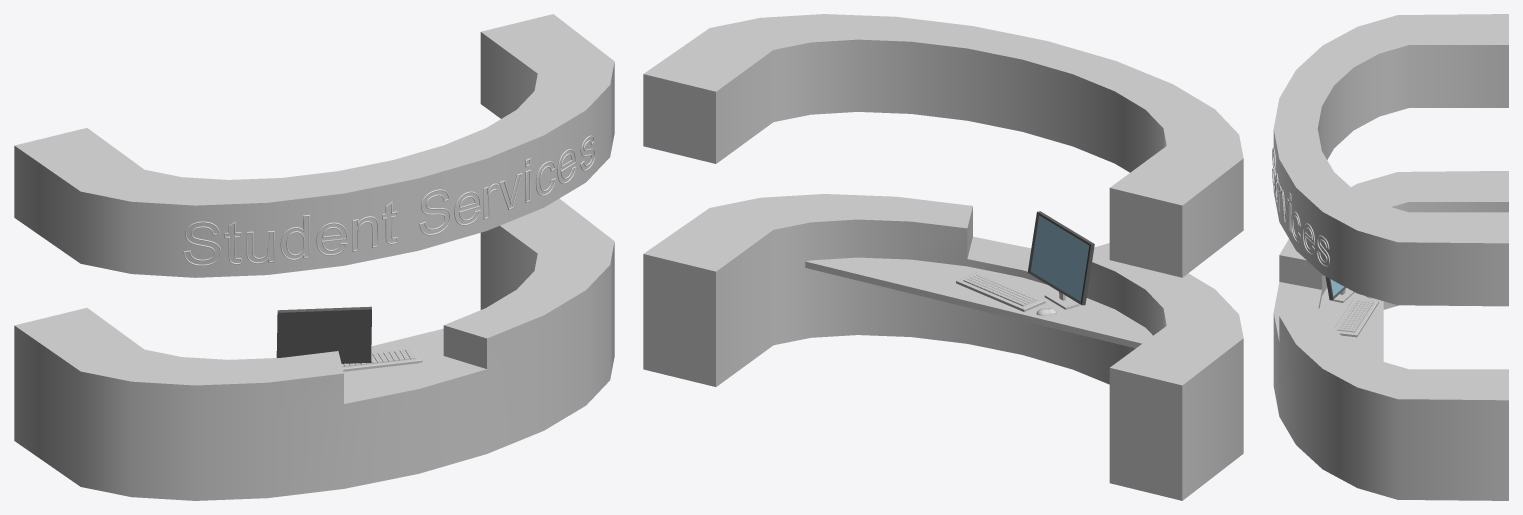
Rendered from Reception Desk FINAL.FBX.
3 renders of one model, left to right at view 1: azimuth 30°, elevation 25°; view 2: azimuth 150°, elevation 25°; view 3: azimuth 270°, elevation 25°, orthographic. The views are drawn at different scales.
Visible parts, largest first — view 1: Tube001, Tube002, Box002, Text001, Box001, Box004; view 2: Tube001, Tube002, Box001, Box002, Box004; view 3: Tube002, Tube001, Box001, Text001, Box004.
Boxes of the visible parts, box(x1,y1,x2,y2) form: Tube001: box(14, 198, 614, 500); Tube002: box(14, 14, 614, 277); Box002: box(276, 306, 371, 363); Text001: box(183, 135, 595, 265); Box001: box(343, 328, 443, 380); Box004: box(341, 348, 422, 371); Tube001: box(643, 194, 1243, 500); Tube002: box(643, 14, 1243, 277); Box001: box(805, 257, 1152, 348); Box002: box(1027, 211, 1094, 305); Box004: box(956, 272, 1045, 311); Tube002: box(1273, 14, 1508, 306); Tube001: box(1273, 171, 1508, 500); Box001: box(1319, 287, 1383, 361); Text001: box(1272, 147, 1329, 266); Box004: box(1334, 298, 1378, 337).
Size of the model in its own units: 227 by 119 by 99.18.
